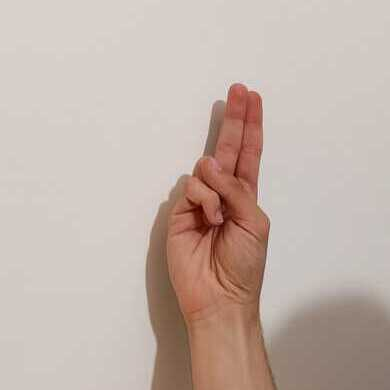U: (166, 84, 270, 325)
